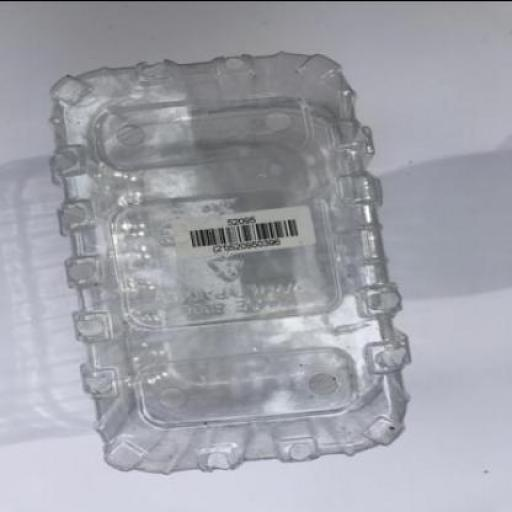plastic: (49, 53, 411, 476)
